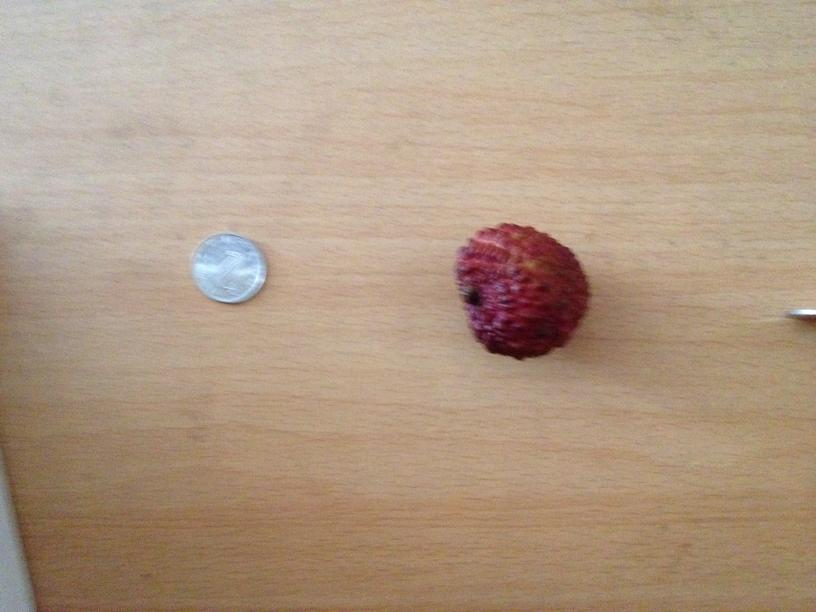coin: (189, 234, 268, 303)
litchi: (451, 227, 589, 360)
